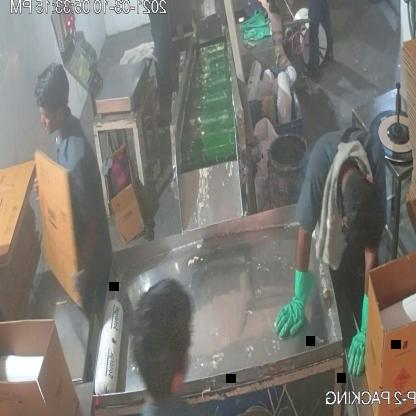glove: (270, 264, 318, 348), (340, 286, 375, 380)
